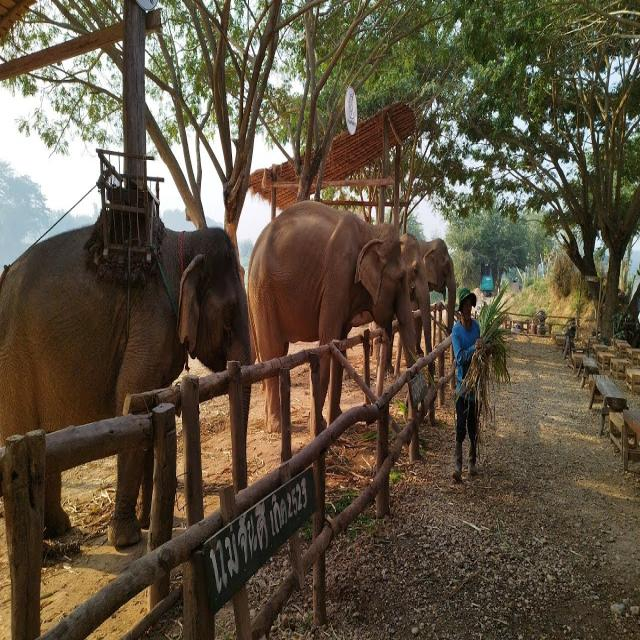Elephant: (0, 187, 260, 588), (248, 146, 425, 496), (402, 225, 459, 397)
